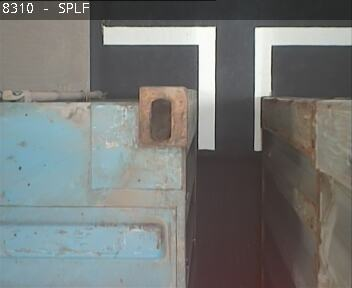groundmarker_1: (102, 26, 352, 149)
